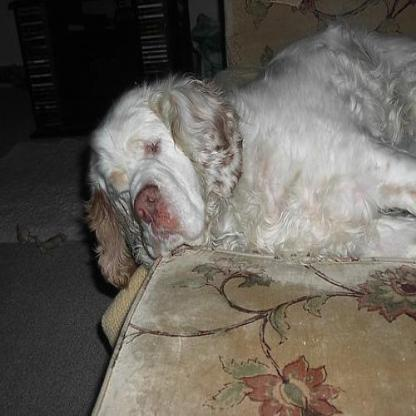clumber: (88, 24, 414, 289)
